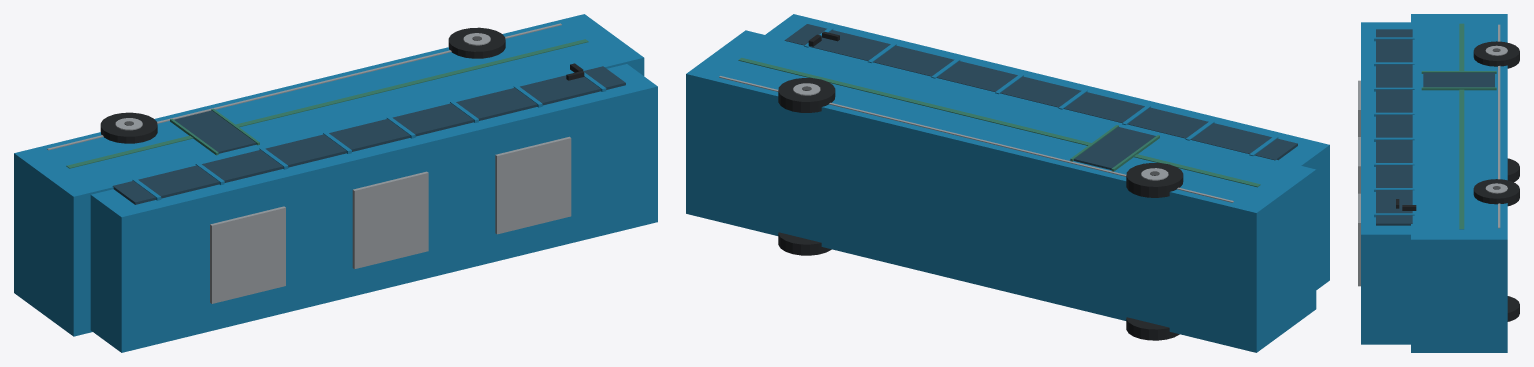
The model's file is RM_Bus_26.glb.
3 renders of one model, left to right at view 1: azimuth 30°, elevation 25°; view 2: azimuth 150°, elevation 25°; view 3: azimuth 270°, elevation 25°, orthographic. The views are drawn at different scales.
Parts seen in each view (by area): view 1: part_001, part_000, part_002, part_038, part_039, part_037, part_013, part_040, part_030, part_024, part_014; view 2: part_000, part_002, part_001, part_013, part_040, part_030, part_024, part_014, part_021, part_027; view 3: part_000, part_001, part_002, part_040, part_013, part_024, part_030, part_014, part_042, part_027, part_039, part_021 (+5 smaller).
Boxes of the visible parts, x1,y1,x2,y2 form: part_001: [90, 64, 657, 352]; part_000: [14, 14, 644, 336]; part_002: [112, 66, 625, 204]; part_038: [352, 171, 428, 269]; part_039: [495, 136, 571, 234]; part_037: [210, 206, 285, 303]; part_013: [66, 39, 588, 168]; part_040: [174, 110, 255, 153]; part_030: [448, 27, 505, 58]; part_024: [100, 112, 157, 143]; part_014: [47, 23, 561, 150]; part_000: [686, 30, 1316, 352]; part_002: [784, 24, 1297, 160]; part_001: [765, 14, 1329, 289]; part_013: [738, 57, 1260, 187]; part_040: [1074, 127, 1155, 169]; part_030: [778, 78, 835, 112]; part_024: [1126, 163, 1183, 197]; part_014: [719, 76, 1233, 202]; part_021: [1126, 317, 1179, 340]; part_027: [778, 232, 831, 255]; part_000: [1411, 14, 1507, 352]; part_001: [1361, 22, 1410, 344]; part_002: [1376, 29, 1412, 225]; part_040: [1423, 72, 1494, 87]; part_013: [1459, 23, 1464, 229]; part_024: [1473, 41, 1519, 68]; part_030: [1473, 179, 1519, 206]; part_014: [1498, 24, 1500, 228]; part_042: [1421, 87, 1496, 90]; part_027: [1507, 296, 1519, 321]; part_039: [1358, 193, 1360, 286]; part_021: [1507, 158, 1519, 182].
Size of the model in its own units: 10.8 by 2.85 by 3.28.
